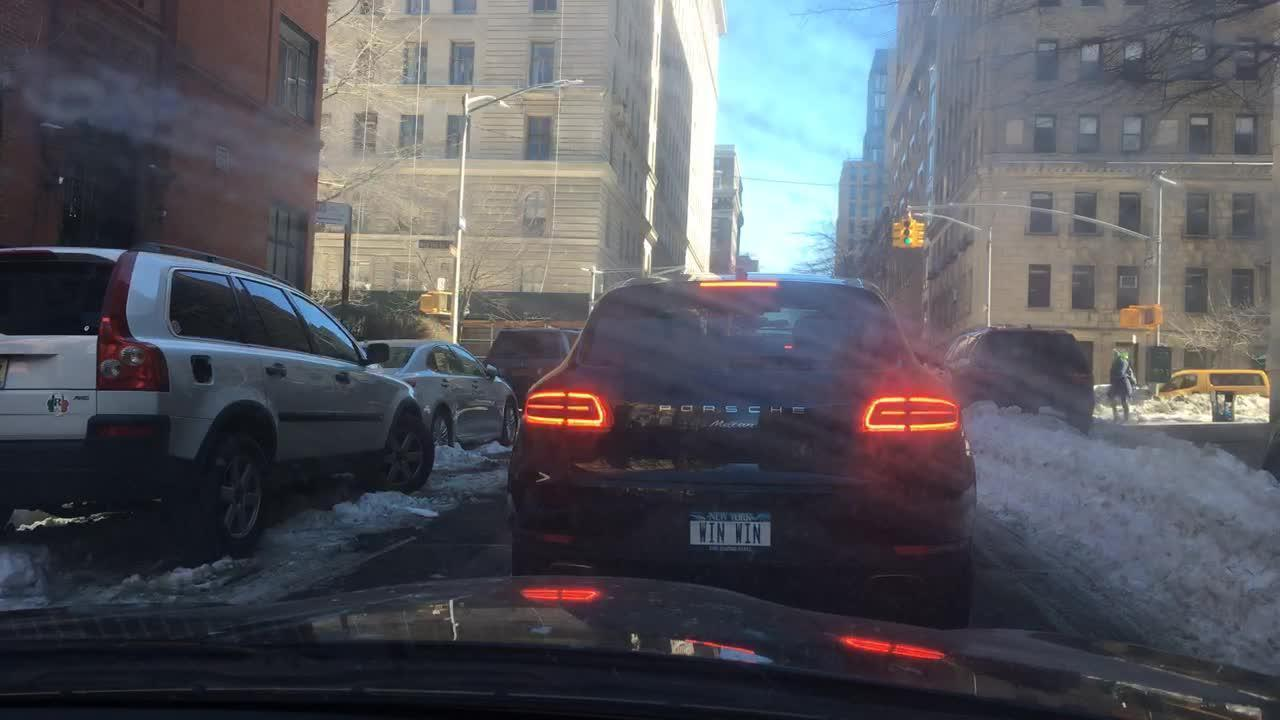porsche: (646, 396, 829, 436)
